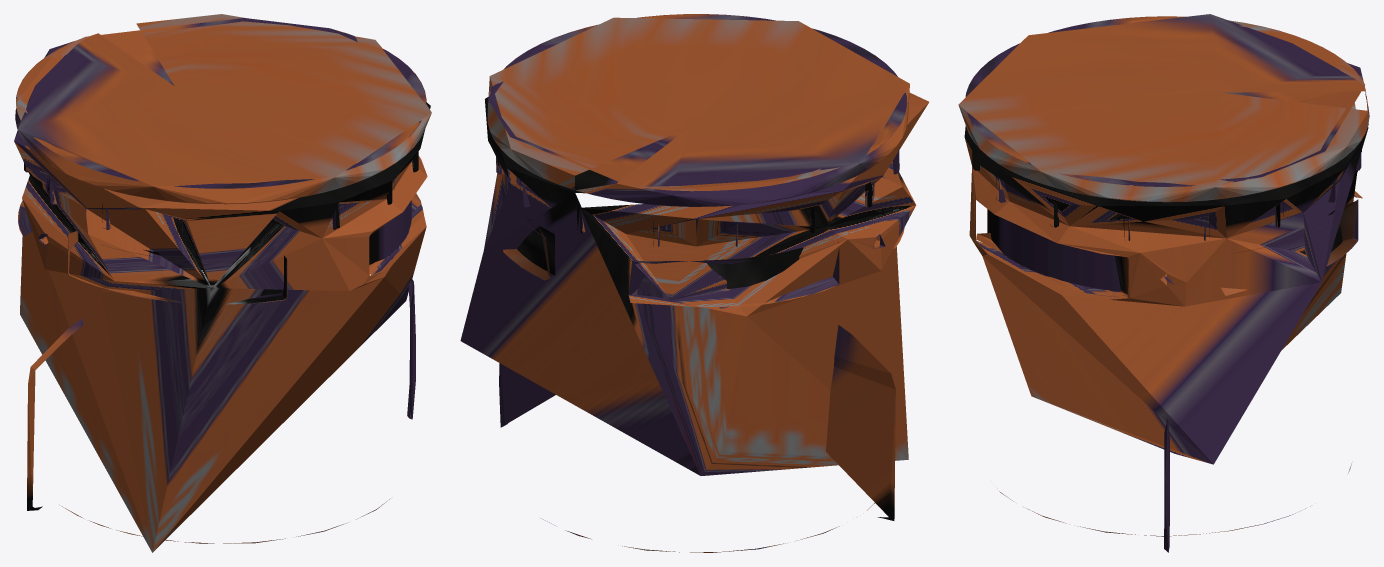
Rendered from consumable_grease_a01.glb.
3 renders of one model, left to right at view 1: azimuth 30°, elevation 25°; view 2: azimuth 150°, elevation 25°; view 3: azimuth 270°, elevation 25°, orthographic. The views are drawn at different scales.
Parts seen in each view (by area): view 1: geometry_0; view 2: geometry_0; view 3: geometry_0.
Part boxes in pixels (x1=…): geometry_0: x1=14, y1=14, x2=431, y2=552; geometry_0: x1=460, y1=14, x2=928, y2=552; geometry_0: x1=958, y1=14, x2=1369, y2=552.
Size of the model in its own units: 0.42 by 0.3666 by 0.3779.
1 material, 1 textured.
